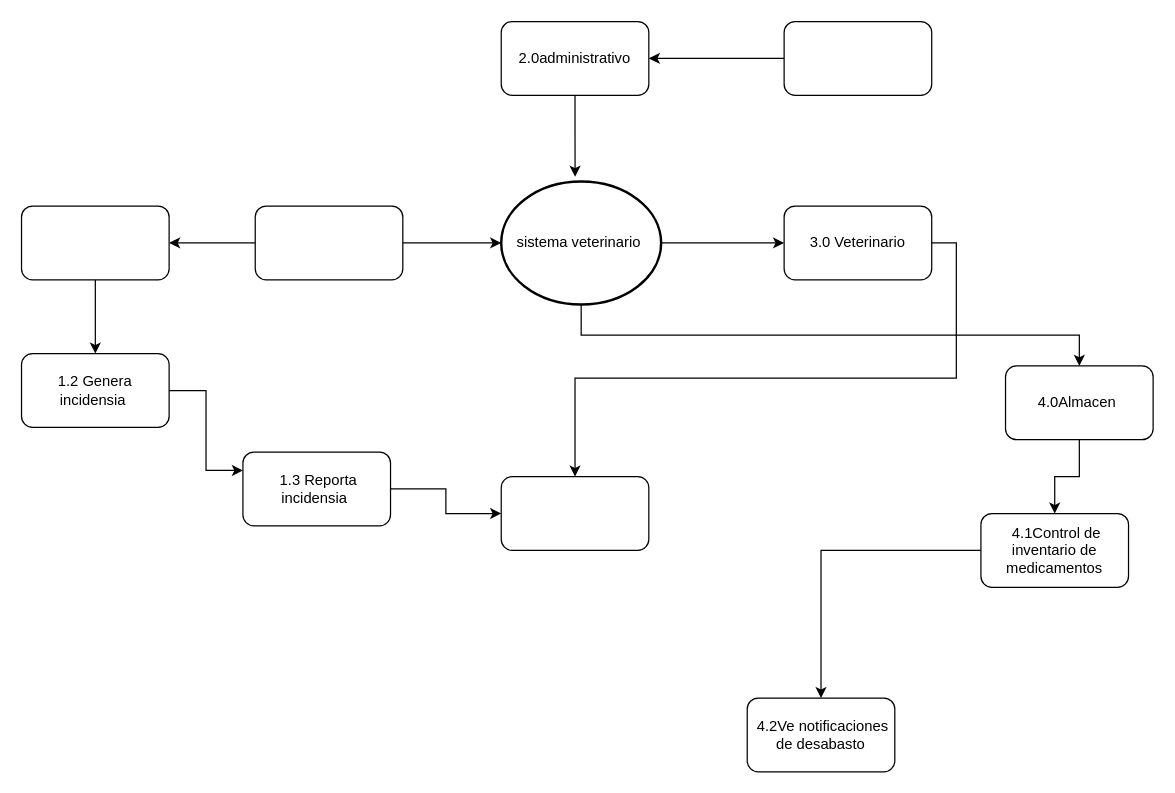
Some shapes in this 1175 by 793 pixel diagram are drawn without their labels. Each missing label, with the centre of its shape:
"1.0Clientes" goes at point (328, 242).
"1.1 Inicia sesion" goes at point (94, 242).
"2.1Acceso a todo" goes at point (857, 57).
"3.1Acceso a incidencias" goes at point (574, 512).
